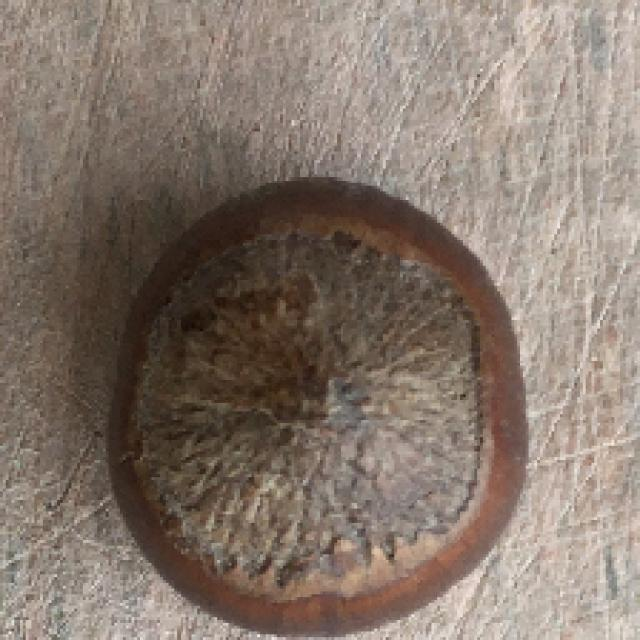damagedHazelnut: (104, 171, 530, 640)
